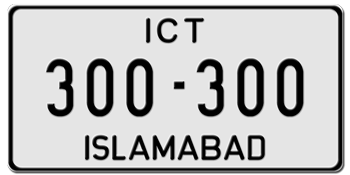Number Plate (Car): (3, 2, 347, 175)
